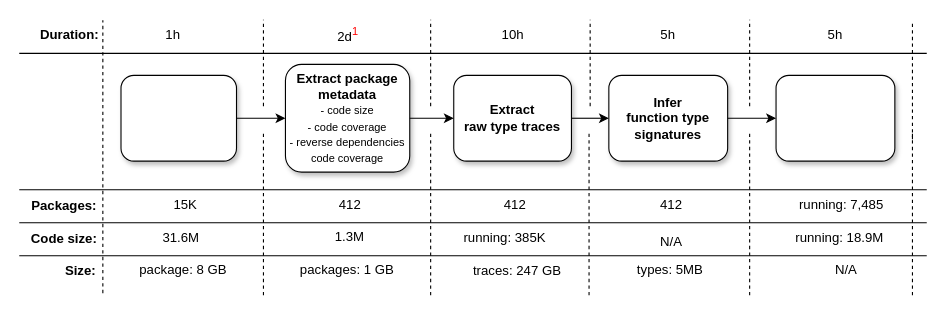
The diagram is 947 pixels wide and 316 high, and some of its shapes have lost their labels. Each missing label, with the centre of its shape:
"Create CRAN mirror" goes at point (179, 119).
"Validate inferred signatures" goes at point (836, 119).
